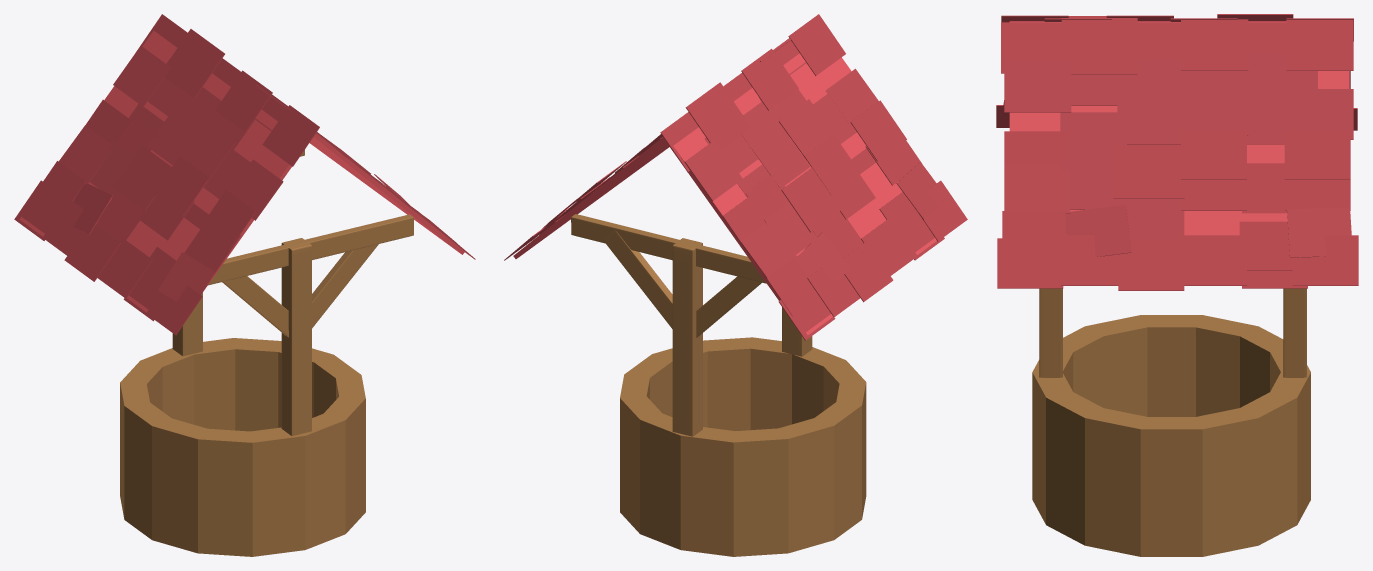
The model's file is well_fix.fbx.
3 views of the same model, side by side, from view 1: azimuth 30°, elevation 25°; view 2: azimuth 150°, elevation 25°; view 3: azimuth 270°, elevation 25° (orthographic). The views are drawn at different scales.
Visible parts, largest first — view 1: Well.002, WellRoofTiles_1, Pillar_2.003, WellRoofBase_2, WellRoofBase_1, Pillar_2.005, WellRoofTiles_2; view 2: Well.002, WellRoofTiles_1, Pillar_2.005, WellRoofBase_2, WellRoofBase_1, WellRoofTiles_2, Pillar_2.003; view 3: WellRoofTiles_2, Well.002, WellRoofBase_1, Pillar_2.003, Pillar_2.005, WellRoofTiles_1.
Part boxes in pixels (x1,y1,x2,y2): Well.002: [120, 338, 365, 556]; WellRoofTiles_1: [14, 14, 319, 335]; Pillar_2.003: [208, 214, 413, 435]; WellRoofBase_2: [19, 31, 291, 312]; WellRoofBase_1: [309, 133, 464, 254]; Pillar_2.005: [172, 150, 304, 356]; WellRoofTiles_2: [256, 84, 475, 259]; Well.002: [620, 337, 866, 556]; WellRoofTiles_1: [660, 14, 967, 340]; Pillar_2.005: [571, 214, 766, 436]; WellRoofBase_2: [665, 53, 936, 334]; WellRoofBase_1: [513, 137, 669, 258]; WellRoofTiles_2: [504, 36, 794, 260]; Pillar_2.003: [782, 307, 812, 356]; WellRoofTiles_2: [997, 16, 1358, 290]; Well.002: [1032, 315, 1310, 556]; WellRoofBase_1: [1009, 71, 1349, 235]; Pillar_2.003: [1039, 288, 1062, 377]; Pillar_2.005: [1283, 288, 1306, 377]; WellRoofTiles_1: [996, 14, 1357, 130].
Size of the model in its own units: 79.35 by 107 by 72.18.
